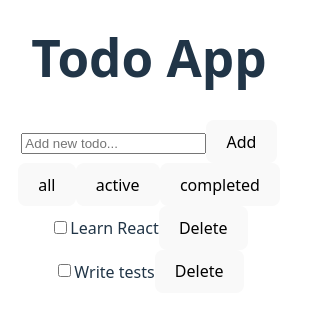
it: Todo App E2E › Удаление задачи
Type "Задача для удаления" into the field with test id "new-todo-input".
click(114, 144); type("Задача для удаления")  # box [21,133,206,154]
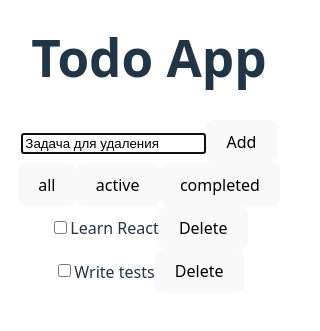
Click the button with test id "add-todo-button".
click(241, 142)  # box [206,120,276,163]
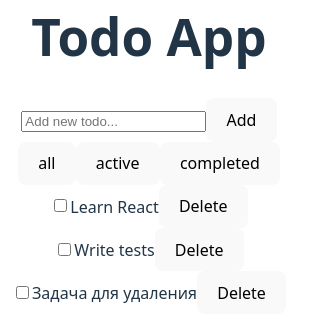
Click the button with test id "delete-".
click(242, 293)  # box [197,271,286,314]
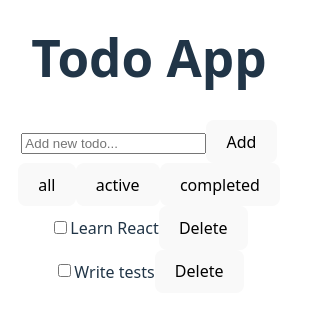
Result: the text "Задача для удаления" is gone
